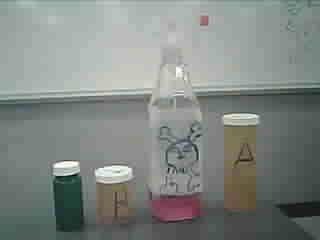Bottle A: (218, 102, 268, 216)
Bottle B: (90, 161, 136, 232)
Bottle C: (49, 156, 85, 231)
hazard: (143, 9, 220, 230)
